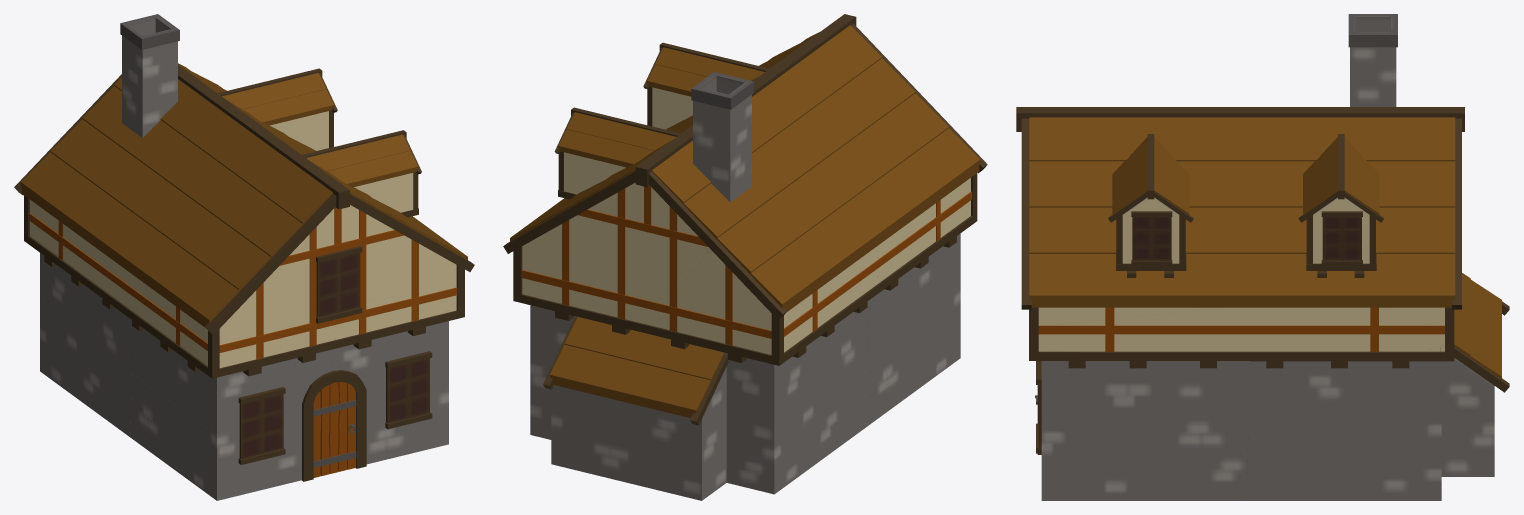
File: ExplodedHouseCastle#4.fbx
The picture shows the model from 3 angles, left to right: view 1: azimuth 30°, elevation 25°; view 2: azimuth 150°, elevation 25°; view 3: azimuth 270°, elevation 25°; orthographic projection. The views are drawn at different scales.
Parts seen in each view (by area): view 1: HouseCastle#4.073, HouseCastle#4.060_cell.009, HouseCastle#4.072, HouseCastle#4.071, HouseCastle#4.060_cell.012, HouseCastle#4.070, HouseCastle#4.060_cell, HouseCastle#4.060_cell.005, HouseCastle#4.060_cell.007, HouseCastle#4.111, HouseCastle#4.039, HouseCastle#4.060_cell.019 (+30 smaller); view 2: HouseCastle#4.106, HouseCastle#4.073, HouseCastle#4.060_cell.007, HouseCastle#4.072, HouseCastle#4.060_cell, HouseCastle#4.071, HouseCastle#4.070, HouseCastle#4.111, HouseCastle#4.060_cell.009, HouseCastle#4.107, HouseCastle#4.060_cell.012, HouseCastle#4.039 (+30 smaller); view 3: HouseCastle#4.069, HouseCastle#4.066, HouseCastle#4.060_cell.008, HouseCastle#4.060_cell.017, HouseCastle#4.068, HouseCastle#4.067, HouseCastle#4.060_cell.018, HouseCastle#4.060_cell.011, HouseCastle#4.060_cell.006, HouseCastle#4.060_cell.010, HouseCastle#4.106, HouseCastle#4.039 (+22 smaller).
Boxes of the visible parts, x1,y1,x2,y2 form: HouseCastle#4.073: (20, 152, 238, 327); HouseCastle#4.060_cell.009: (121, 288, 335, 435); HouseCastle#4.072: (50, 119, 270, 291); HouseCastle#4.071: (82, 86, 302, 257); HouseCastle#4.060_cell.012: (130, 373, 301, 500); HouseCastle#4.070: (114, 77, 332, 224); HouseCastle#4.060_cell: (40, 296, 131, 437); HouseCastle#4.060_cell.005: (120, 208, 334, 344); HouseCastle#4.060_cell.007: (30, 212, 129, 355); HouseCastle#4.111: (120, 14, 179, 137); HouseCastle#4.039: (24, 195, 464, 378); HouseCastle#4.060_cell.019: (341, 205, 456, 301); HouseCastle#4.106: (551, 367, 726, 500); HouseCastle#4.073: (751, 128, 980, 312); HouseCastle#4.060_cell.007: (647, 247, 877, 415); HouseCastle#4.072: (717, 93, 949, 274); HouseCastle#4.060_cell: (726, 343, 870, 494); HouseCastle#4.071: (683, 58, 915, 239); HouseCastle#4.070: (652, 25, 881, 204); HouseCastle#4.111: (691, 72, 753, 202); HouseCastle#4.060_cell.009: (867, 202, 969, 354); HouseCastle#4.107: (550, 345, 710, 418); HouseCastle#4.060_cell.012: (869, 290, 960, 424); HouseCastle#4.039: (513, 173, 977, 365); HouseCastle#4.069: (1029, 254, 1455, 307); HouseCastle#4.066: (1029, 117, 1455, 161); HouseCastle#4.060_cell.008: (1041, 411, 1248, 500); HouseCastle#4.060_cell.017: (1246, 427, 1441, 500); HouseCastle#4.068: (1029, 207, 1455, 253); HouseCastle#4.067: (1029, 161, 1455, 207); HouseCastle#4.060_cell.018: (1241, 346, 1441, 427); HouseCastle#4.060_cell.011: (1241, 307, 1444, 405); HouseCastle#4.060_cell.006: (1038, 307, 1241, 405); HouseCastle#4.060_cell.010: (1038, 345, 1241, 423); HouseCastle#4.106: (1441, 358, 1494, 476); HouseCastle#4.039: (1029, 307, 1454, 361).
Bounding box in the file's own units: 1517 × 1896 × 2157.
